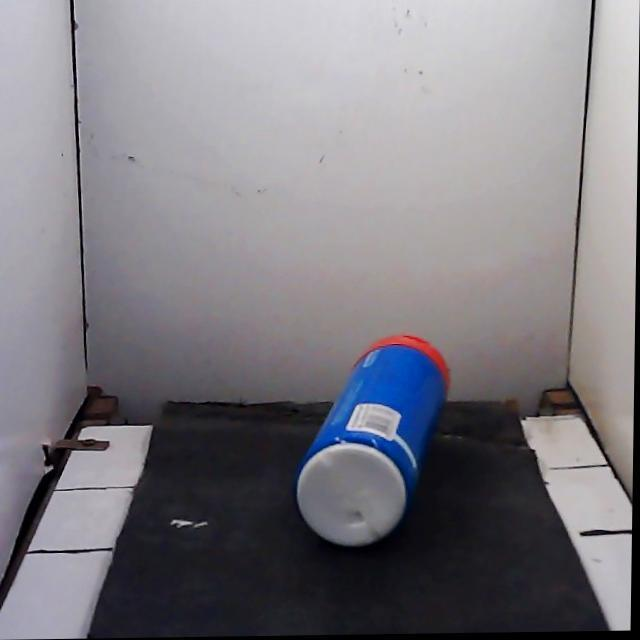plastico: (297, 335, 449, 546)
